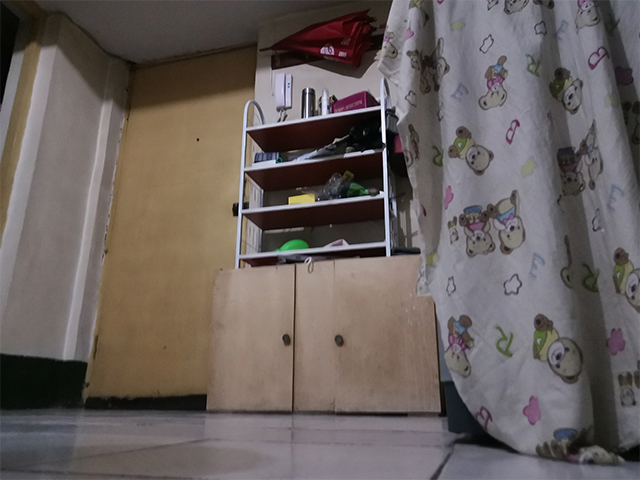cabinet: (202, 251, 446, 419)
